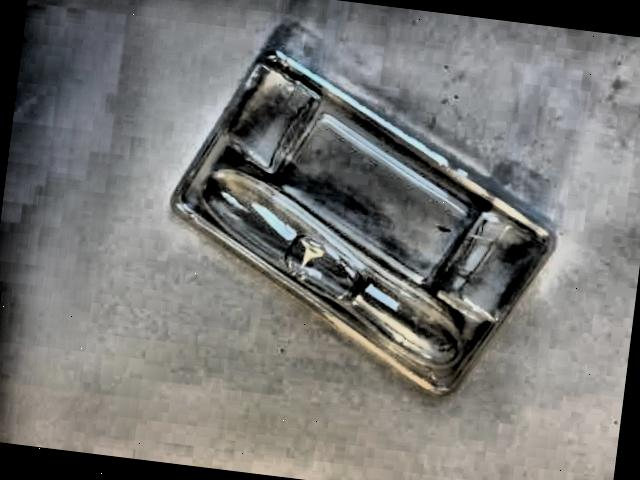Plastic: (136, 5, 592, 480)
